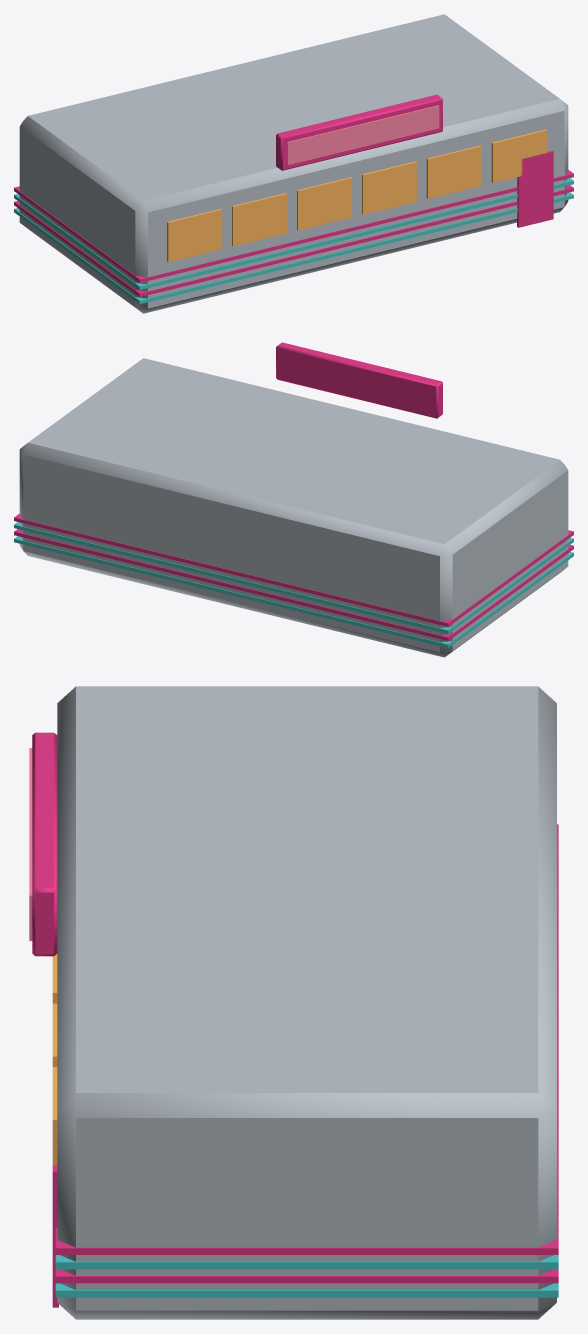
Rendered from fifties_diner.glb.
3 renders of one model, top to bottom at view 1: azimuth 30°, elevation 25°; view 2: azimuth 150°, elevation 25°; view 3: azimuth 270°, elevation 25°, orthographic. The views are drawn at different scales.
Visible parts, largest first — view 1: fifties_diner; view 2: fifties_diner; view 3: fifties_diner.
Boxes of the visible parts, x1,y1,x2,y2 form: fifties_diner: [14, 14, 573, 313]; fifties_diner: [14, 342, 573, 657]; fifties_diner: [29, 686, 558, 1319].
Size of the model in its own units: 16.05 by 5.4 by 8.47.
